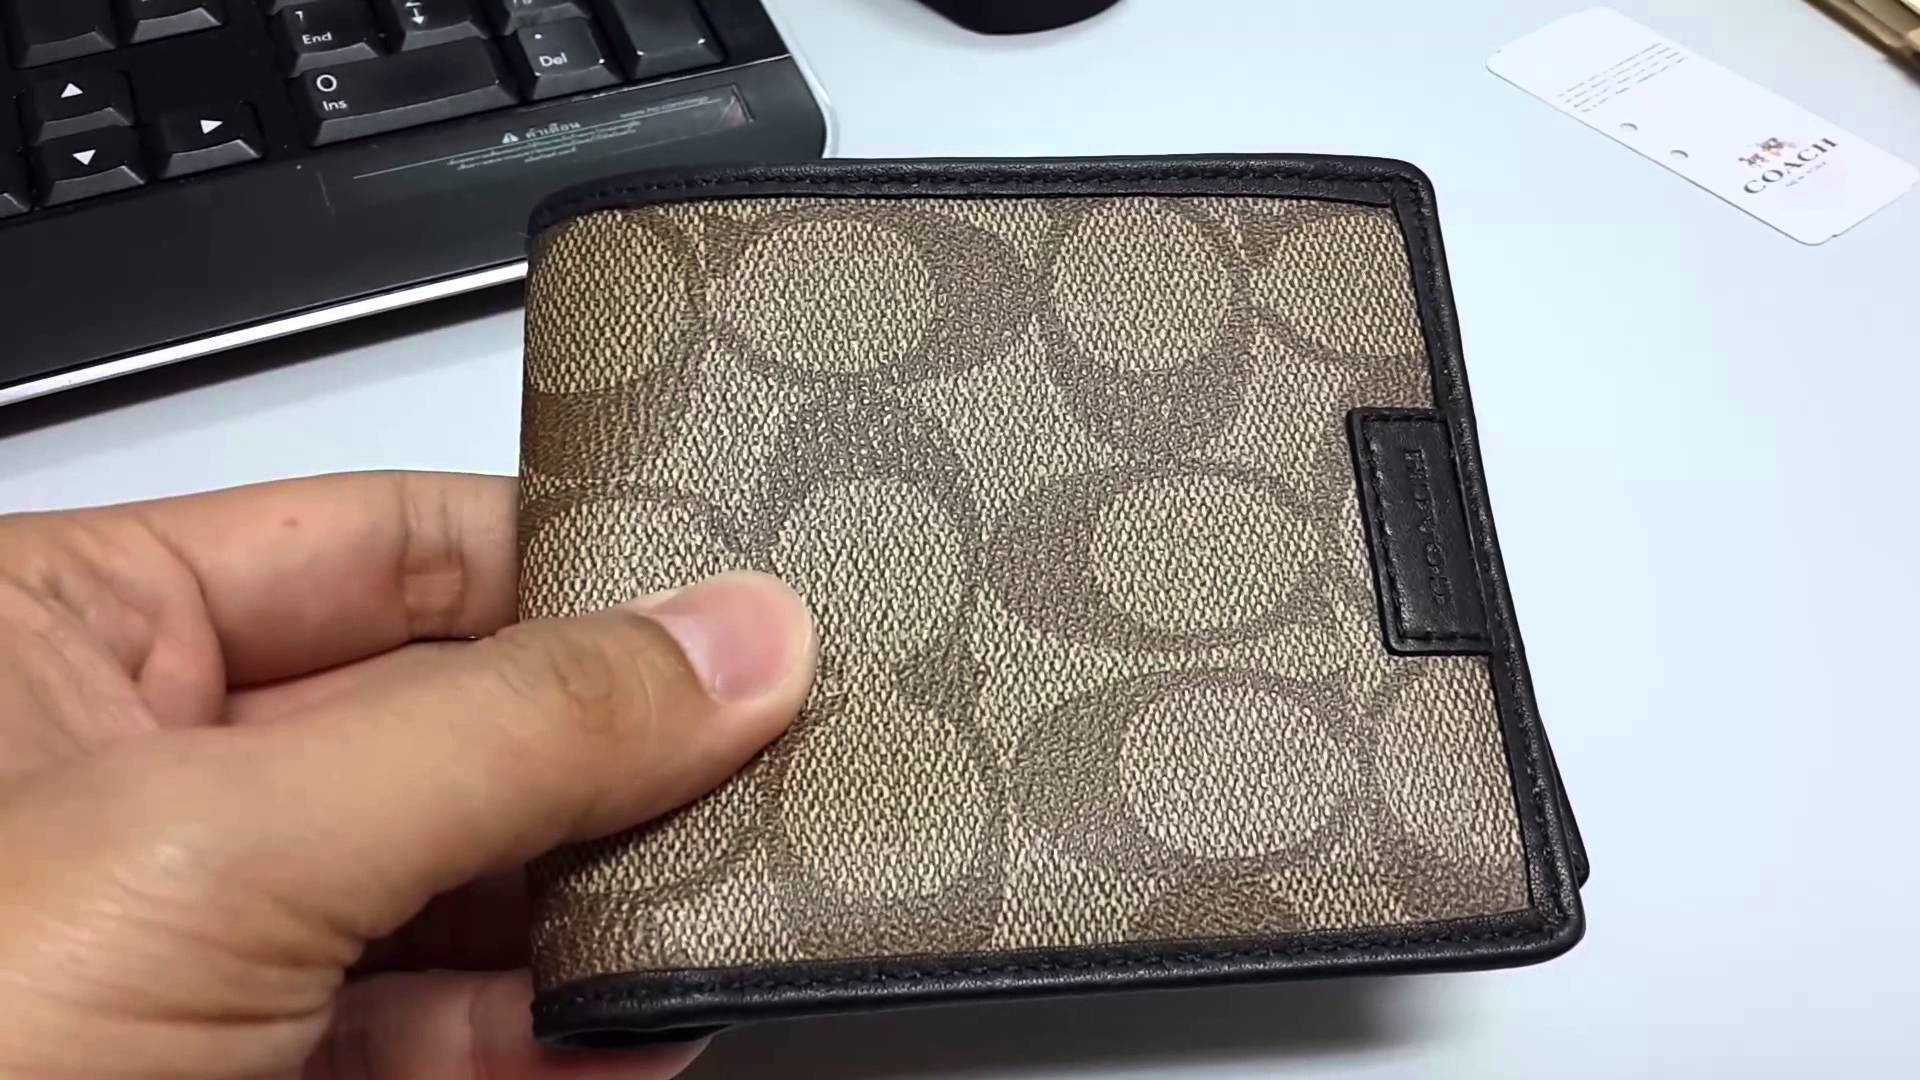monedero: (508, 149, 1600, 1064)
